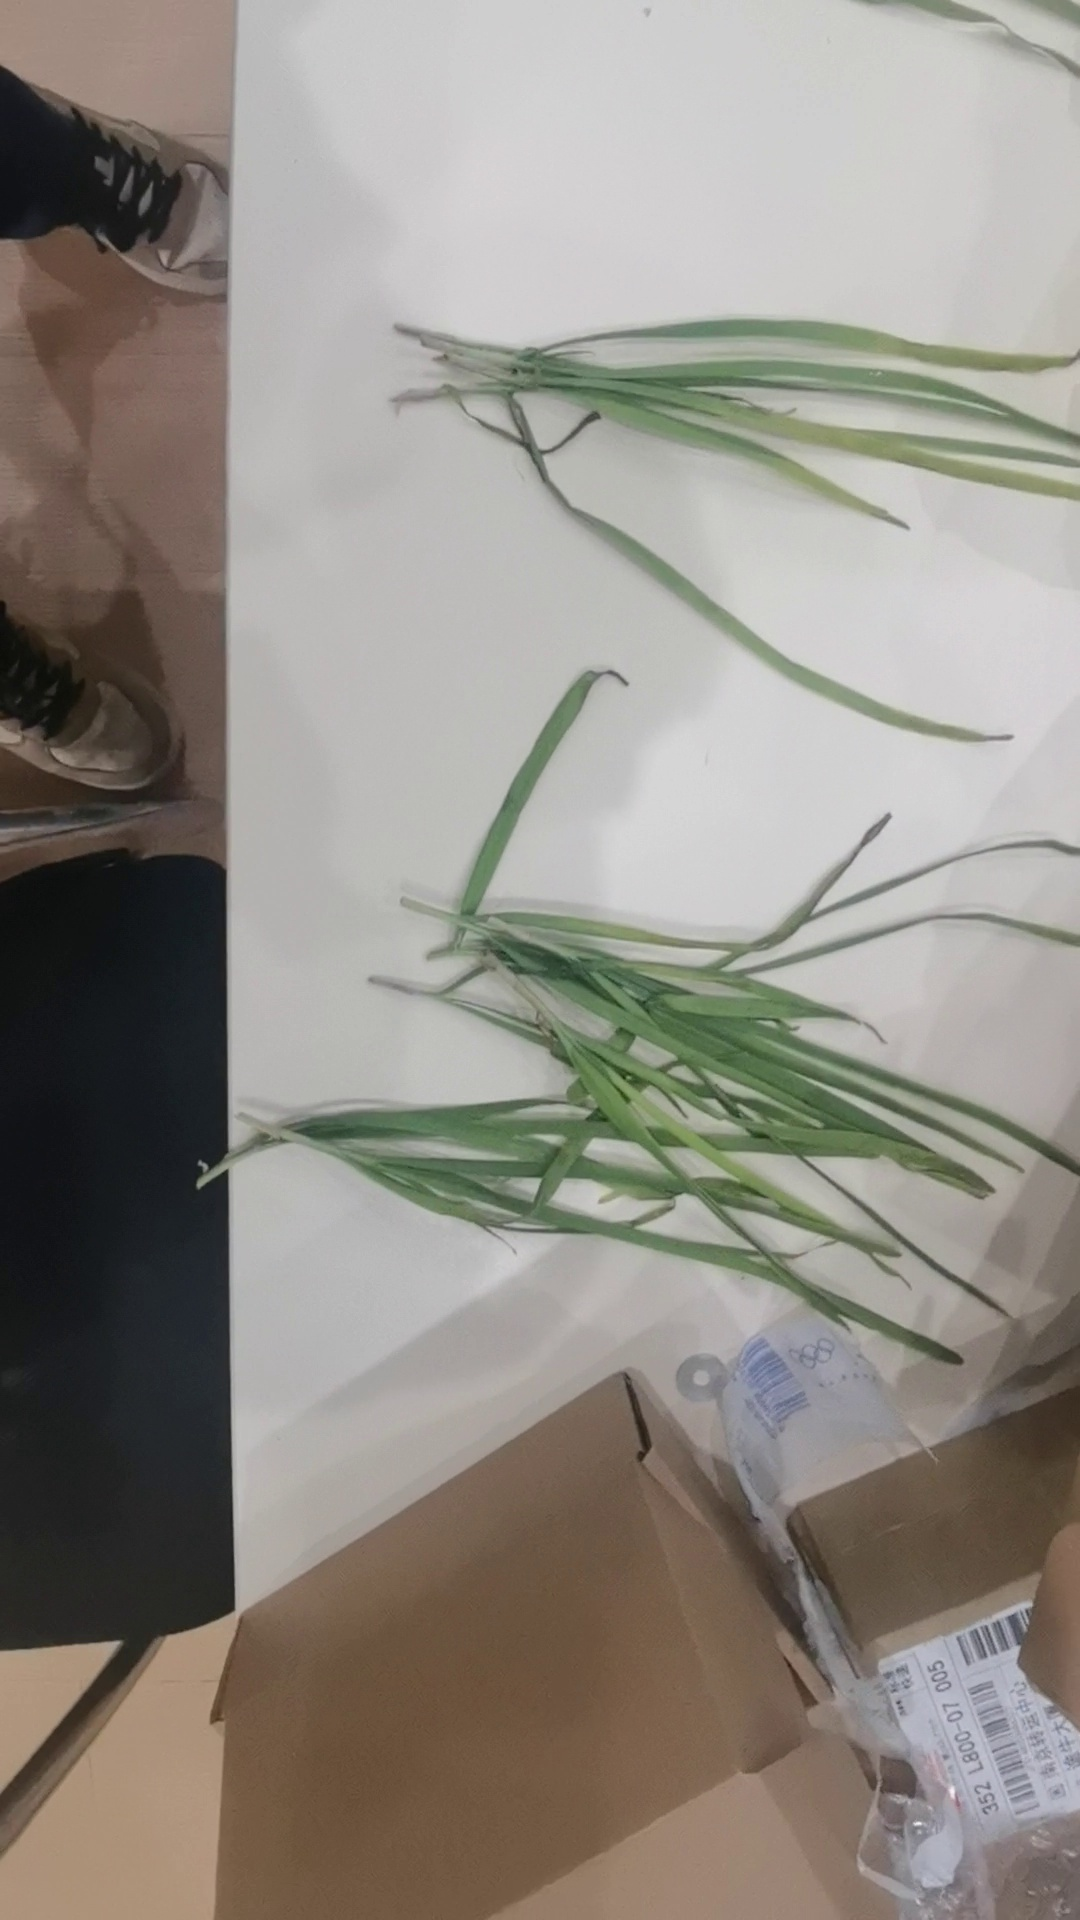chives: (229, 666, 1080, 1349), (334, 305, 1080, 738)
